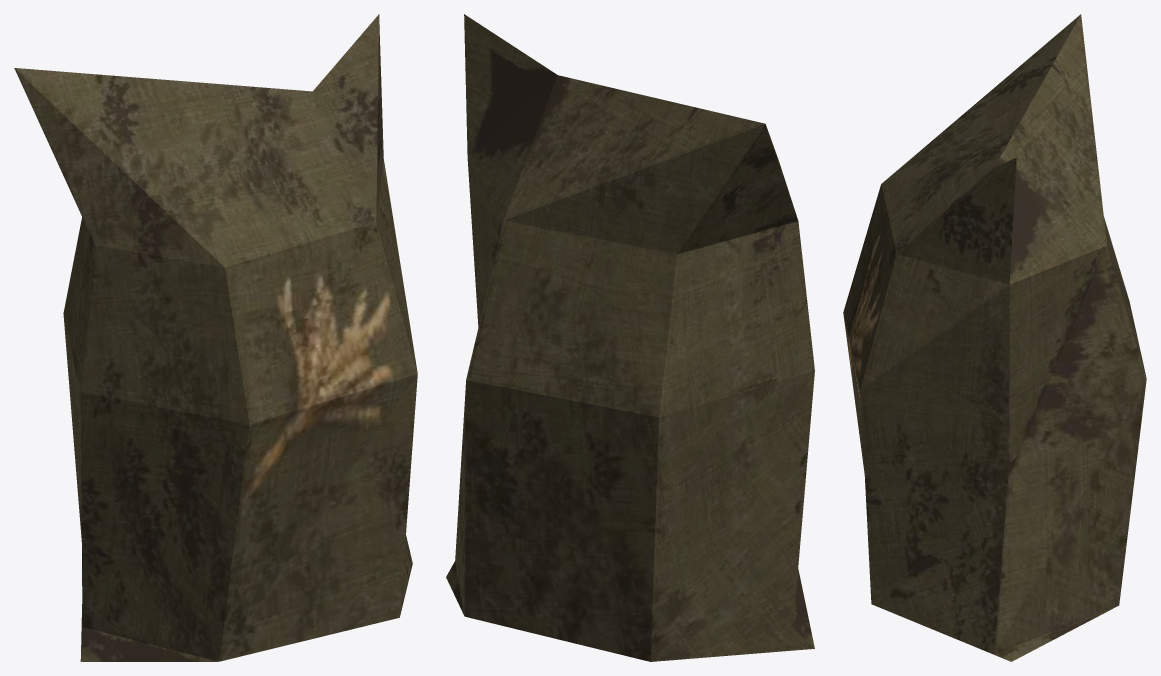
File: GS_NATURE_WHEAT_03_GALI.glb
The picture shows the model from 3 angles, left to right: view 1: azimuth 30°, elevation 25°; view 2: azimuth 150°, elevation 25°; view 3: azimuth 270°, elevation 25°; orthographic projection. The views are drawn at different scales.
Visible parts, largest first — view 1: GS_NATURE_WHEAT_03_GALI; view 2: GS_NATURE_WHEAT_03_GALI; view 3: GS_NATURE_WHEAT_03_GALI.
Boxes of the visible parts, box(x1,y1,x2,y2) form: GS_NATURE_WHEAT_03_GALI: box(14, 14, 417, 661); GS_NATURE_WHEAT_03_GALI: box(446, 14, 814, 661); GS_NATURE_WHEAT_03_GALI: box(843, 14, 1146, 661).
Bounding box in the file's own units: 0.5621 × 0.8504 × 0.472.
1 material, 1 textured.
